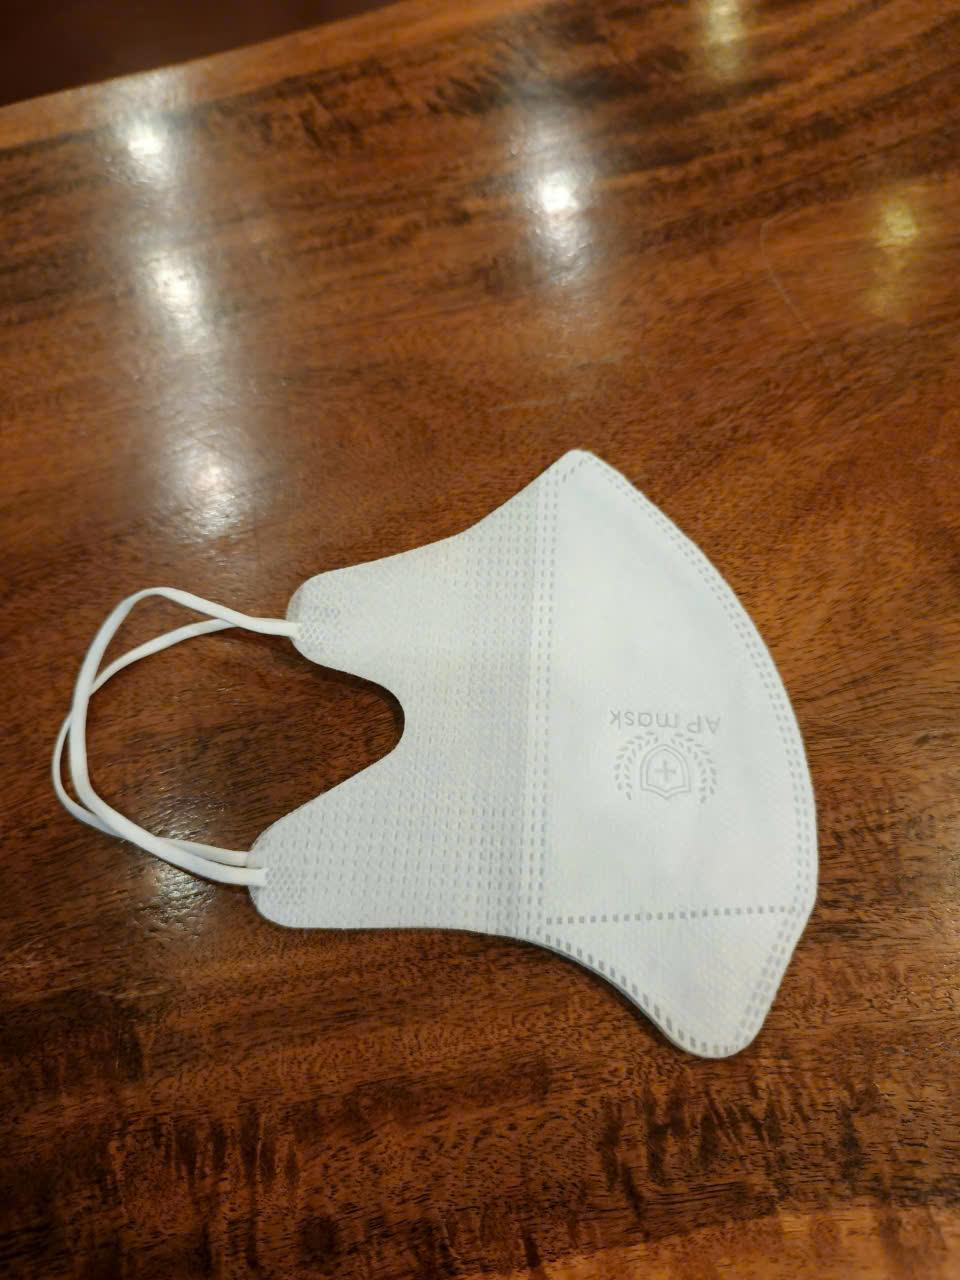Con lai: (55, 443, 820, 1066)
